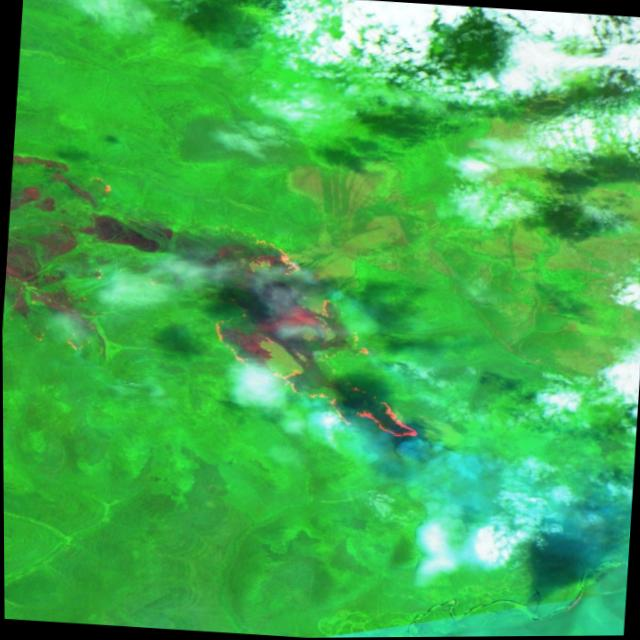fire: (188, 219, 439, 448)
